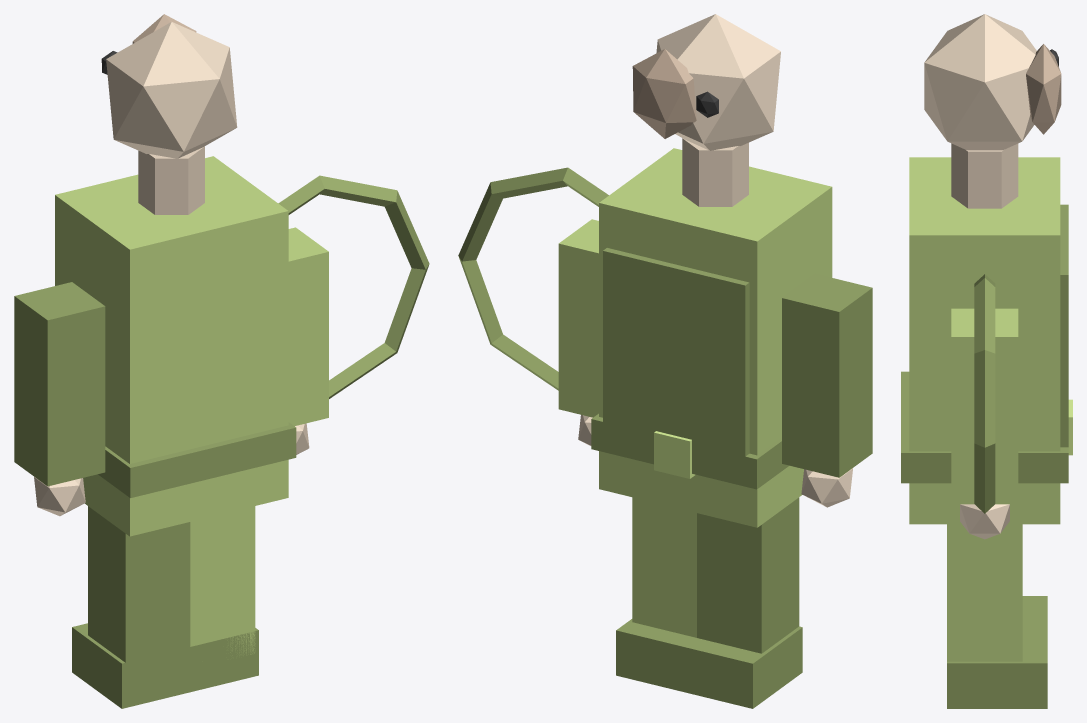
The model's file is archer.glb.
3 views of the same model, side by side, from view 1: azimuth 30°, elevation 25°; view 2: azimuth 150°, elevation 25°; view 3: azimuth 270°, elevation 25° (orthographic).
Visible parts, largest first — view 1: archer; view 2: archer; view 3: archer.
Boxes of the visible parts, box(x1,y1,x2,y2) form: archer: box(14, 14, 429, 708); archer: box(458, 14, 872, 708); archer: box(901, 14, 1072, 708).
Bounding box in the file's own units: 1.11 × 1.74 × 0.41.
